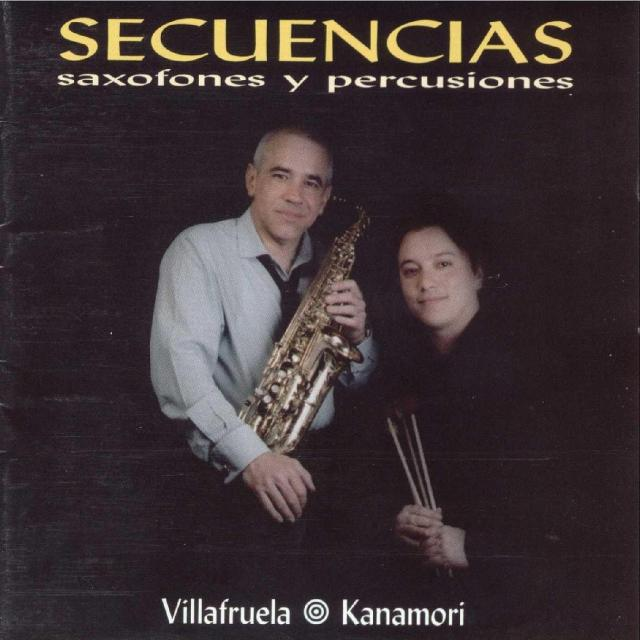saxophone: (238, 191, 371, 460)
